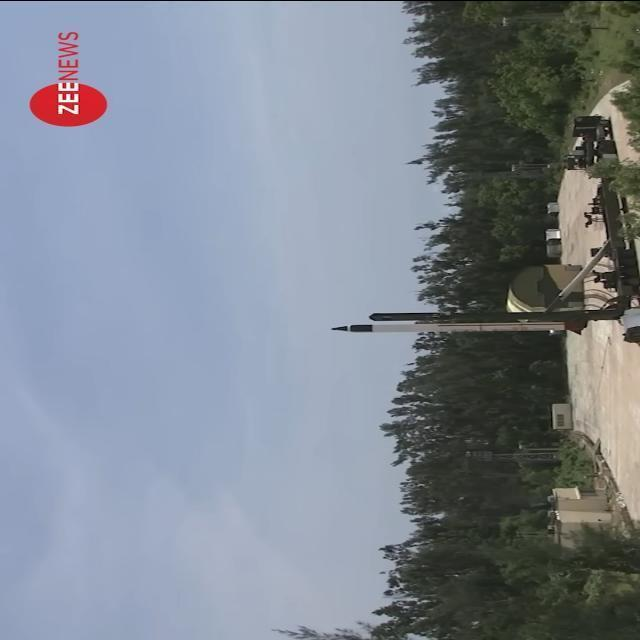missile: (330, 309, 583, 346)
